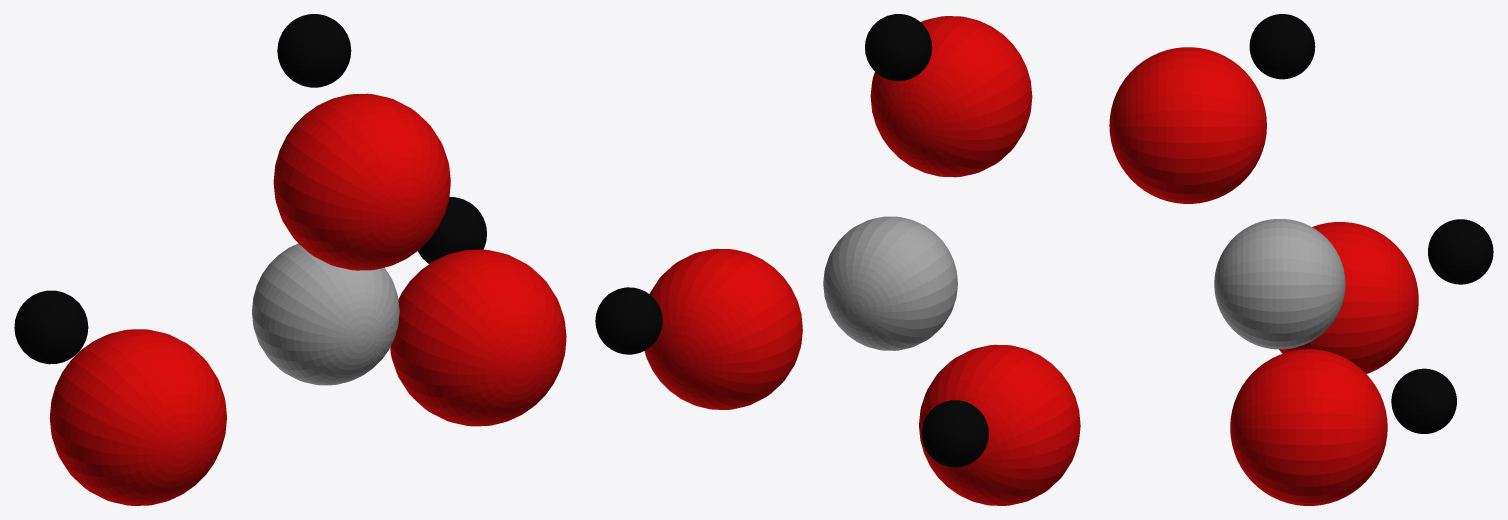
The model's file is Boric Acid.glb.
3 renders of one model, left to right at view 1: azimuth 30°, elevation 25°; view 2: azimuth 150°, elevation 25°; view 3: azimuth 270°, elevation 25°, orthographic. The views are drawn at different scales.
Visible parts, largest first — view 1: world; view 2: world; view 3: world.
Boxes of the visible parts, x1=… form: world: x1=14, y1=14, x2=566, y2=505; world: x1=595, y1=14, x2=1080, y2=505; world: x1=1109, y1=14, x2=1493, y2=505.
Size of the model in its own units: 3.71 by 3.5 by 2.93.
